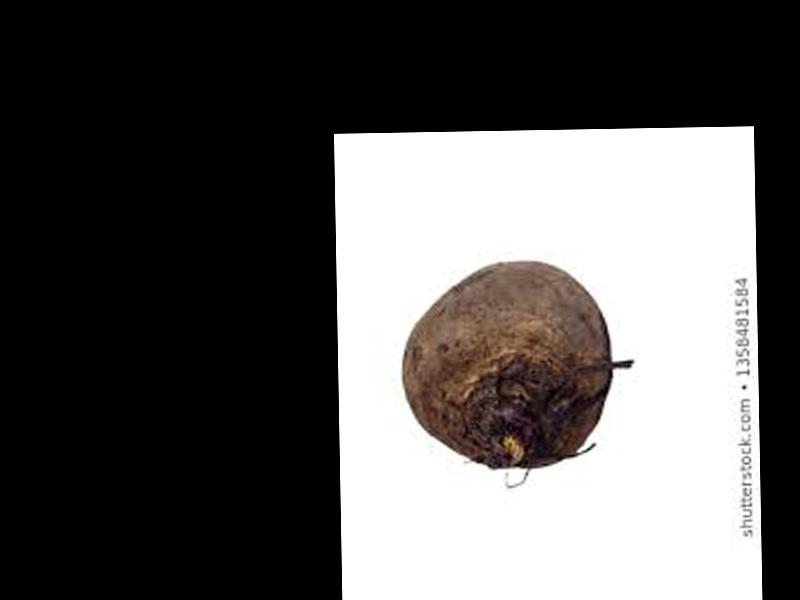Beet: (400, 257, 612, 468)
